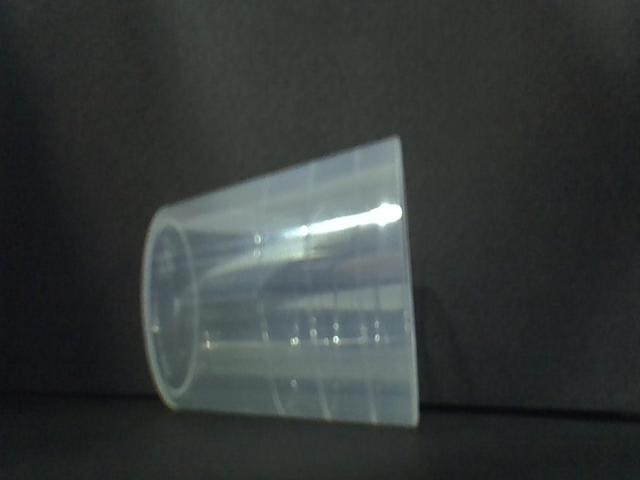cup: (138, 131, 423, 429)
